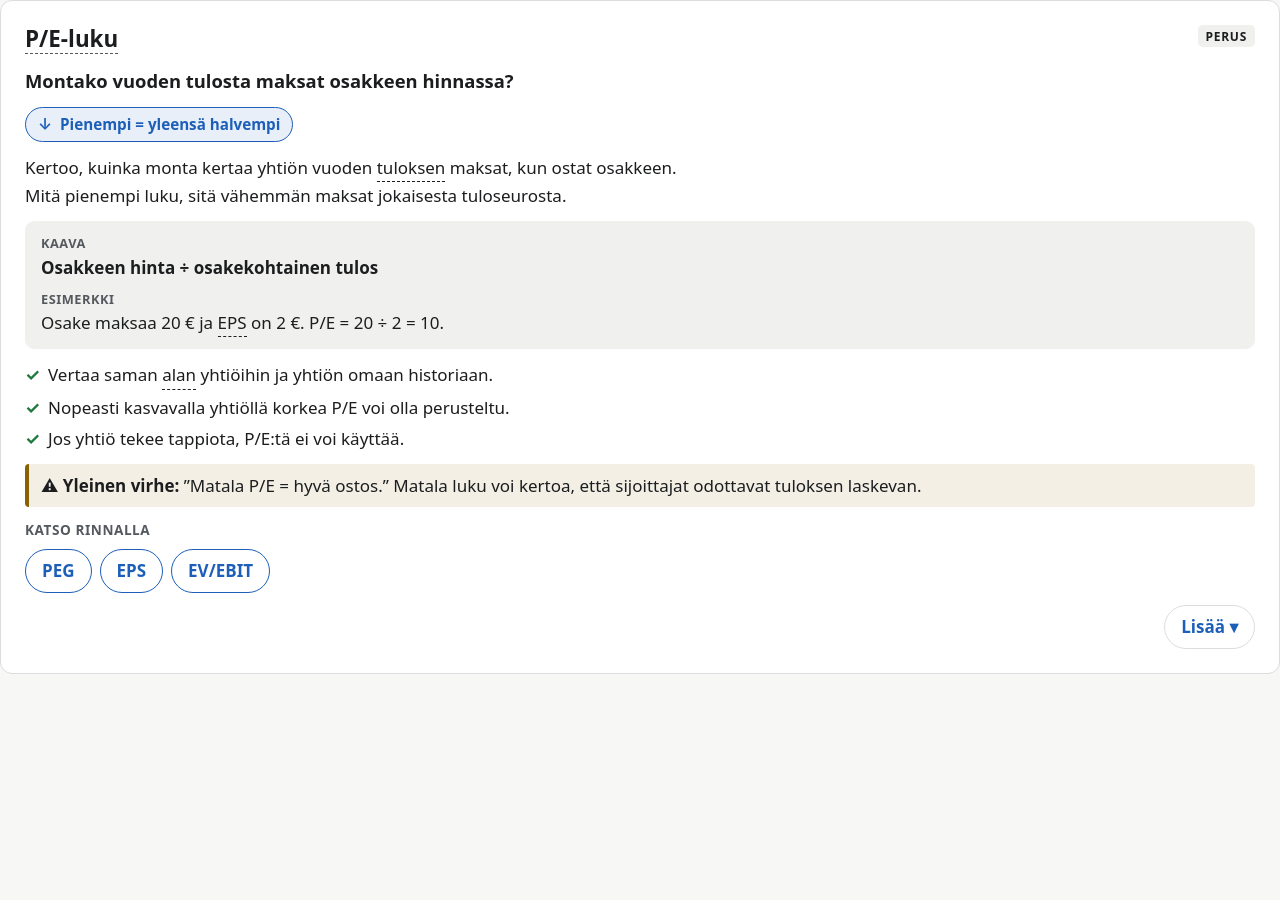
Scenario: MetricCard: Lisää-osio › laajenee paikallaan ja sulkeutuu uudelleen
Step 1. Click the button "Lisää ▾" → [1210, 627], box [1164,605,1255,649]
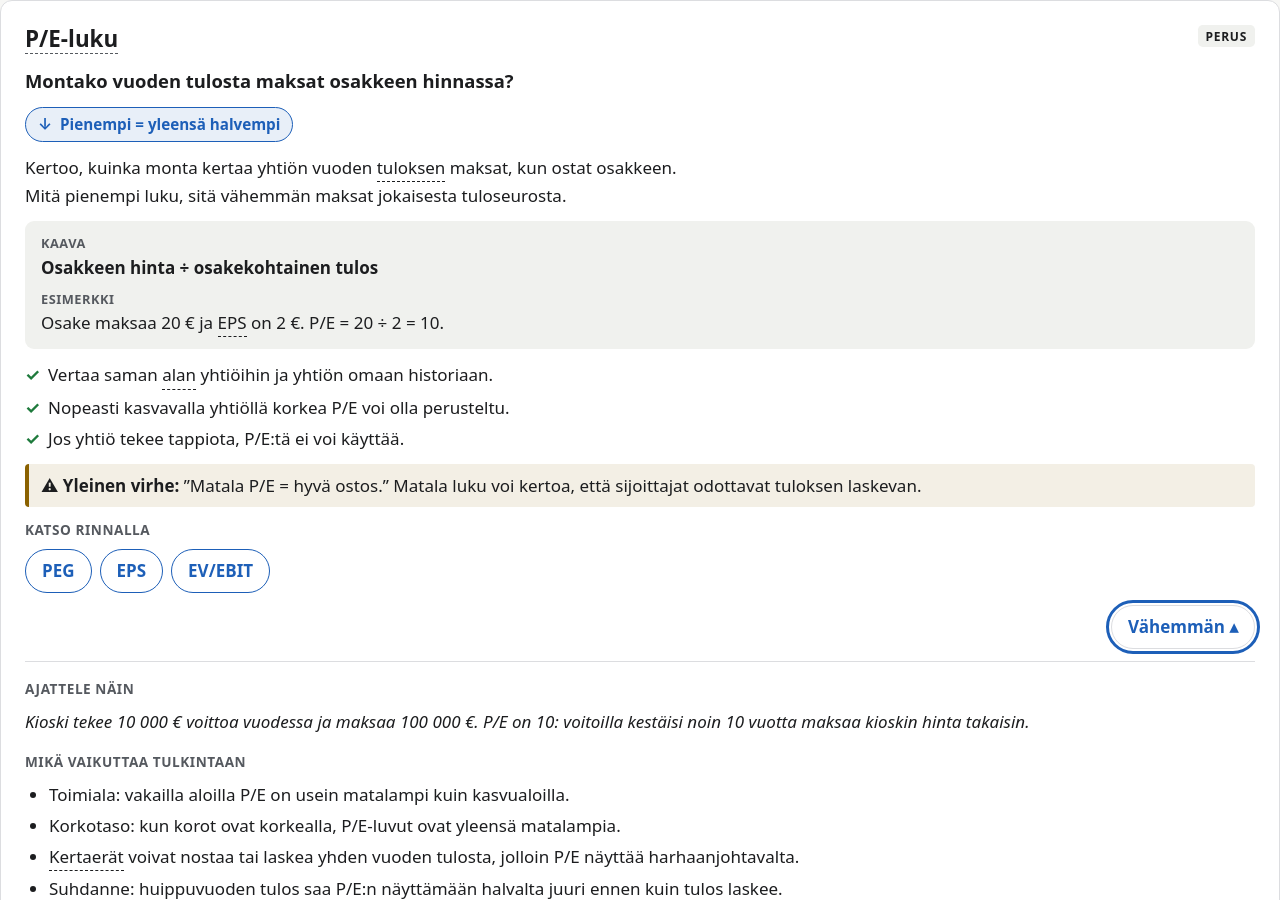
Check: the button "Vähemmän ▴" is expanded
Check: the heading "Ajattele näin" is shown, box [25,679,134,698]
Check: the text "Kioski tekee 10 000 €" is shown, box [25,710,1030,733]
Step 2. Click the button "Vähemmän ▴" → [1183, 627], box [1111,605,1255,649]
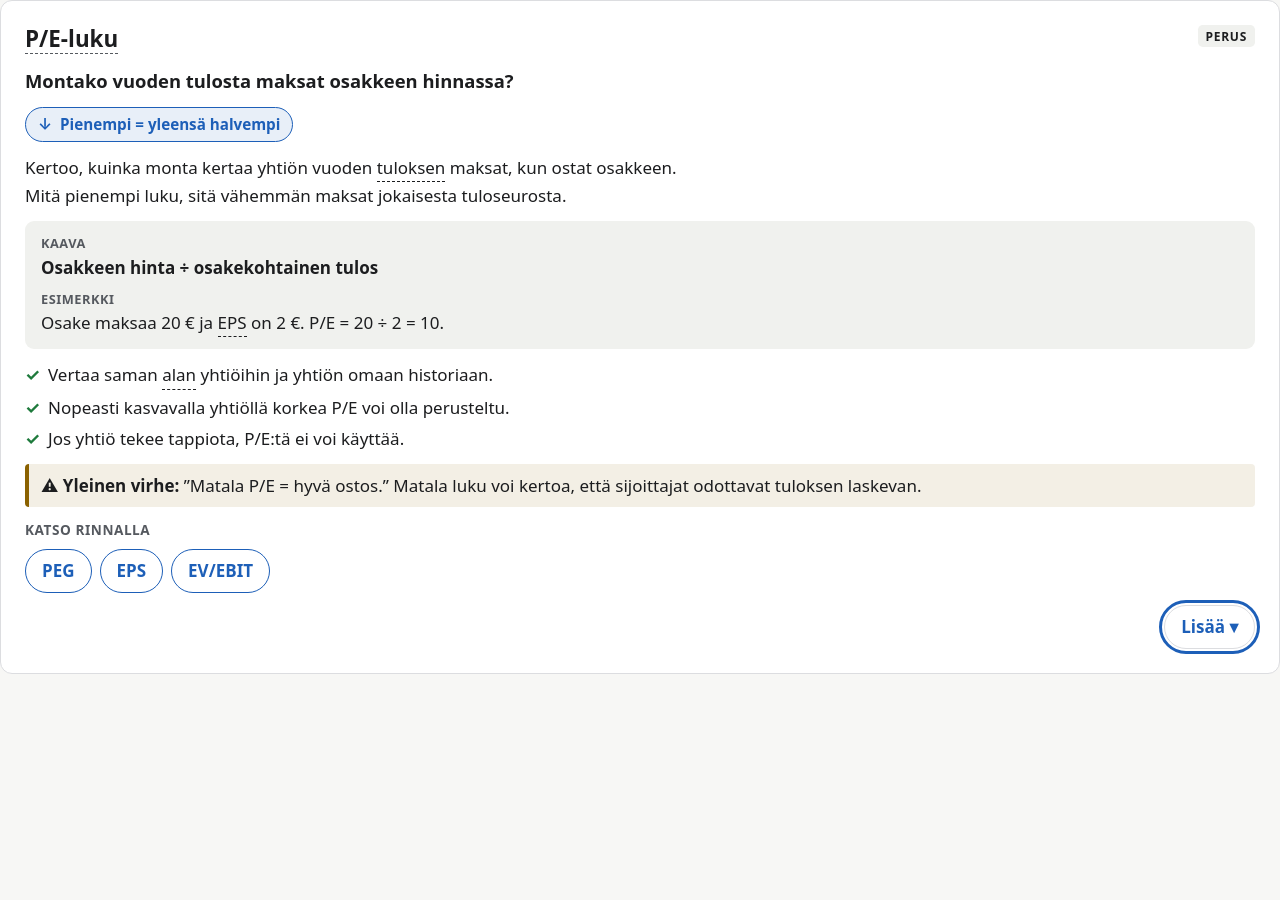
Check: the button "Lisää ▾" is collapsed, box [1164,605,1255,649]
Check: the heading "Ajattele näin" is gone
